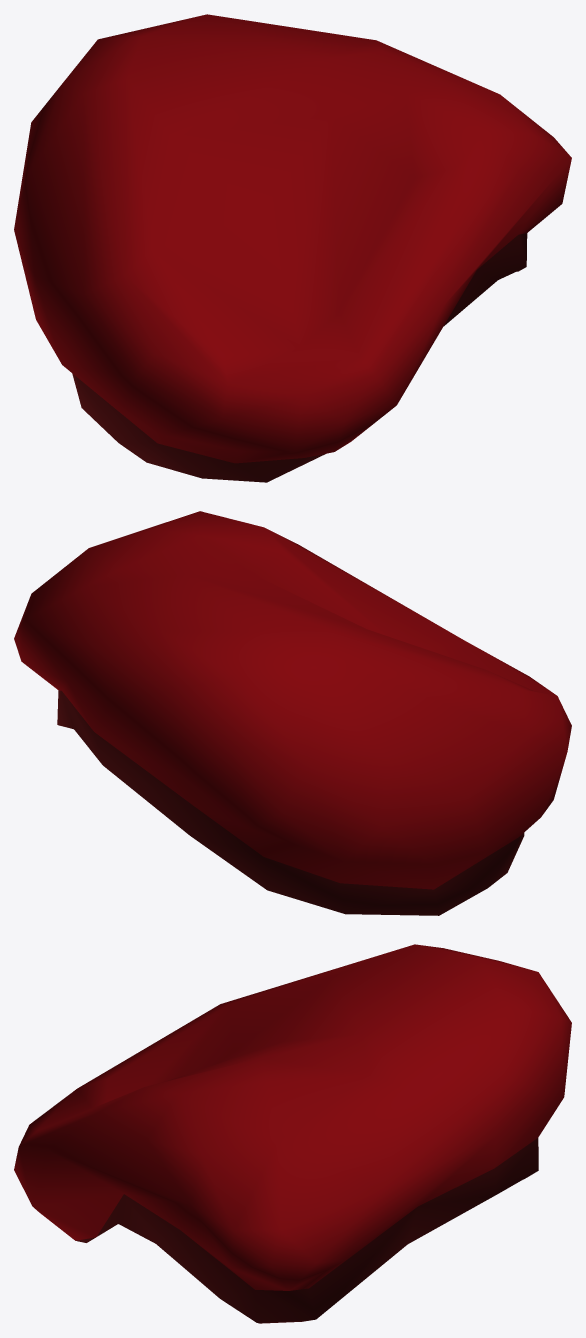
Rendered from anime-style-beret.fbx.
The picture shows the model from 3 angles, top to bottom: view 1: azimuth 30°, elevation 25°; view 2: azimuth 150°, elevation 25°; view 3: azimuth 270°, elevation 25°; orthographic projection. The views are drawn at different scales.
Visible parts, largest first — view 1: beret; view 2: beret; view 3: beret.
Boxes of the visible parts, <box> form: beret: <box>14,14,571,482</box>; beret: <box>14,511,571,915</box>; beret: <box>14,944,571,1323</box>.
Size of the model in its own units: 18.6 by 11.01 by 17.8.
